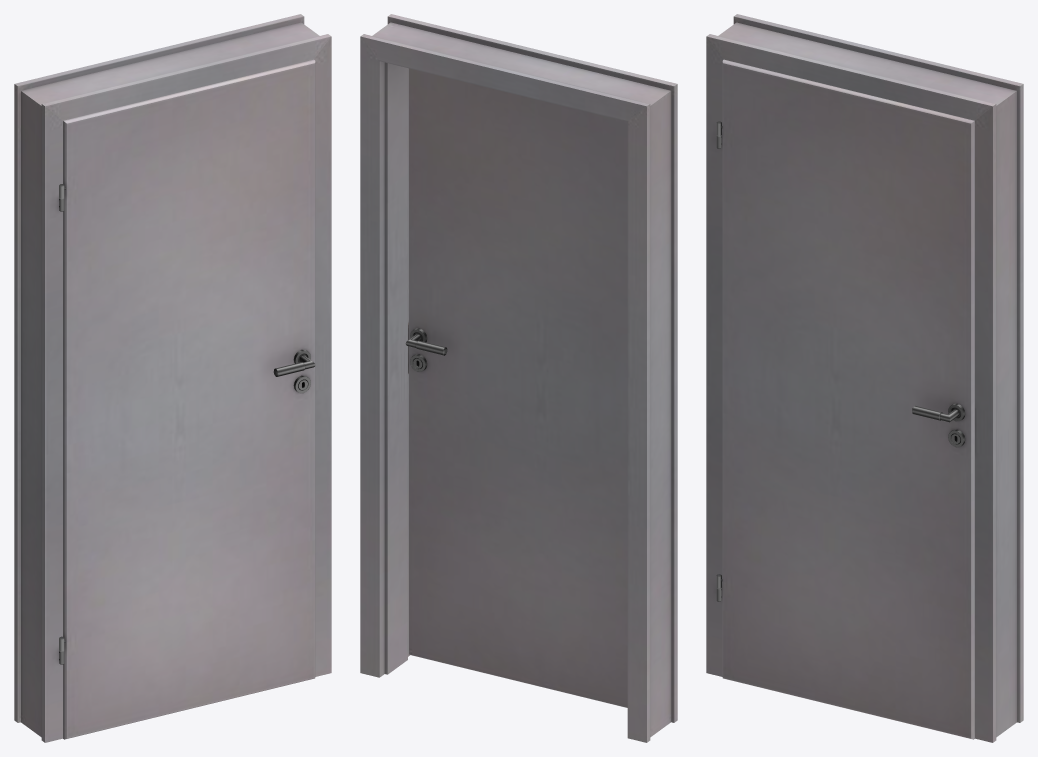
Rendered from door.glb.
3 renders of one model, left to right at view 1: azimuth 30°, elevation 25°; view 2: azimuth 150°, elevation 25°; view 3: azimuth 330°, elevation 25°, orthographic.
Parts seen in each view (by area): view 1: Plane.001, Plane.002; view 2: Plane.001, Plane.002; view 3: Plane.001, Plane.002.
Boxes of the visible parts, bbox=[...] form: Plane.001: bbox=[59, 59, 315, 739]; Plane.002: bbox=[14, 14, 331, 742]; Plane.001: bbox=[408, 68, 627, 707]; Plane.002: bbox=[360, 14, 677, 742]; Plane.001: bbox=[716, 59, 974, 739]; Plane.002: bbox=[706, 14, 1023, 742].
Size of the model in its own units: 97 by 206 by 26.06.
Materials: 2 (2 with a texture image).
